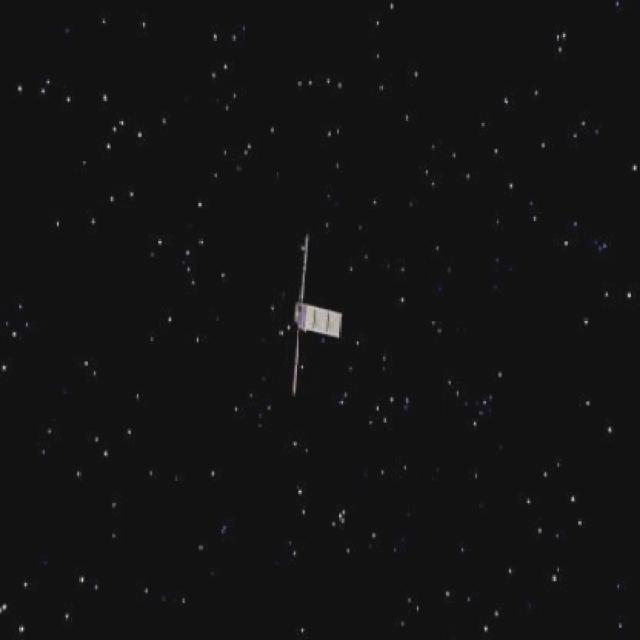medium_debris: (265, 223, 352, 414)
